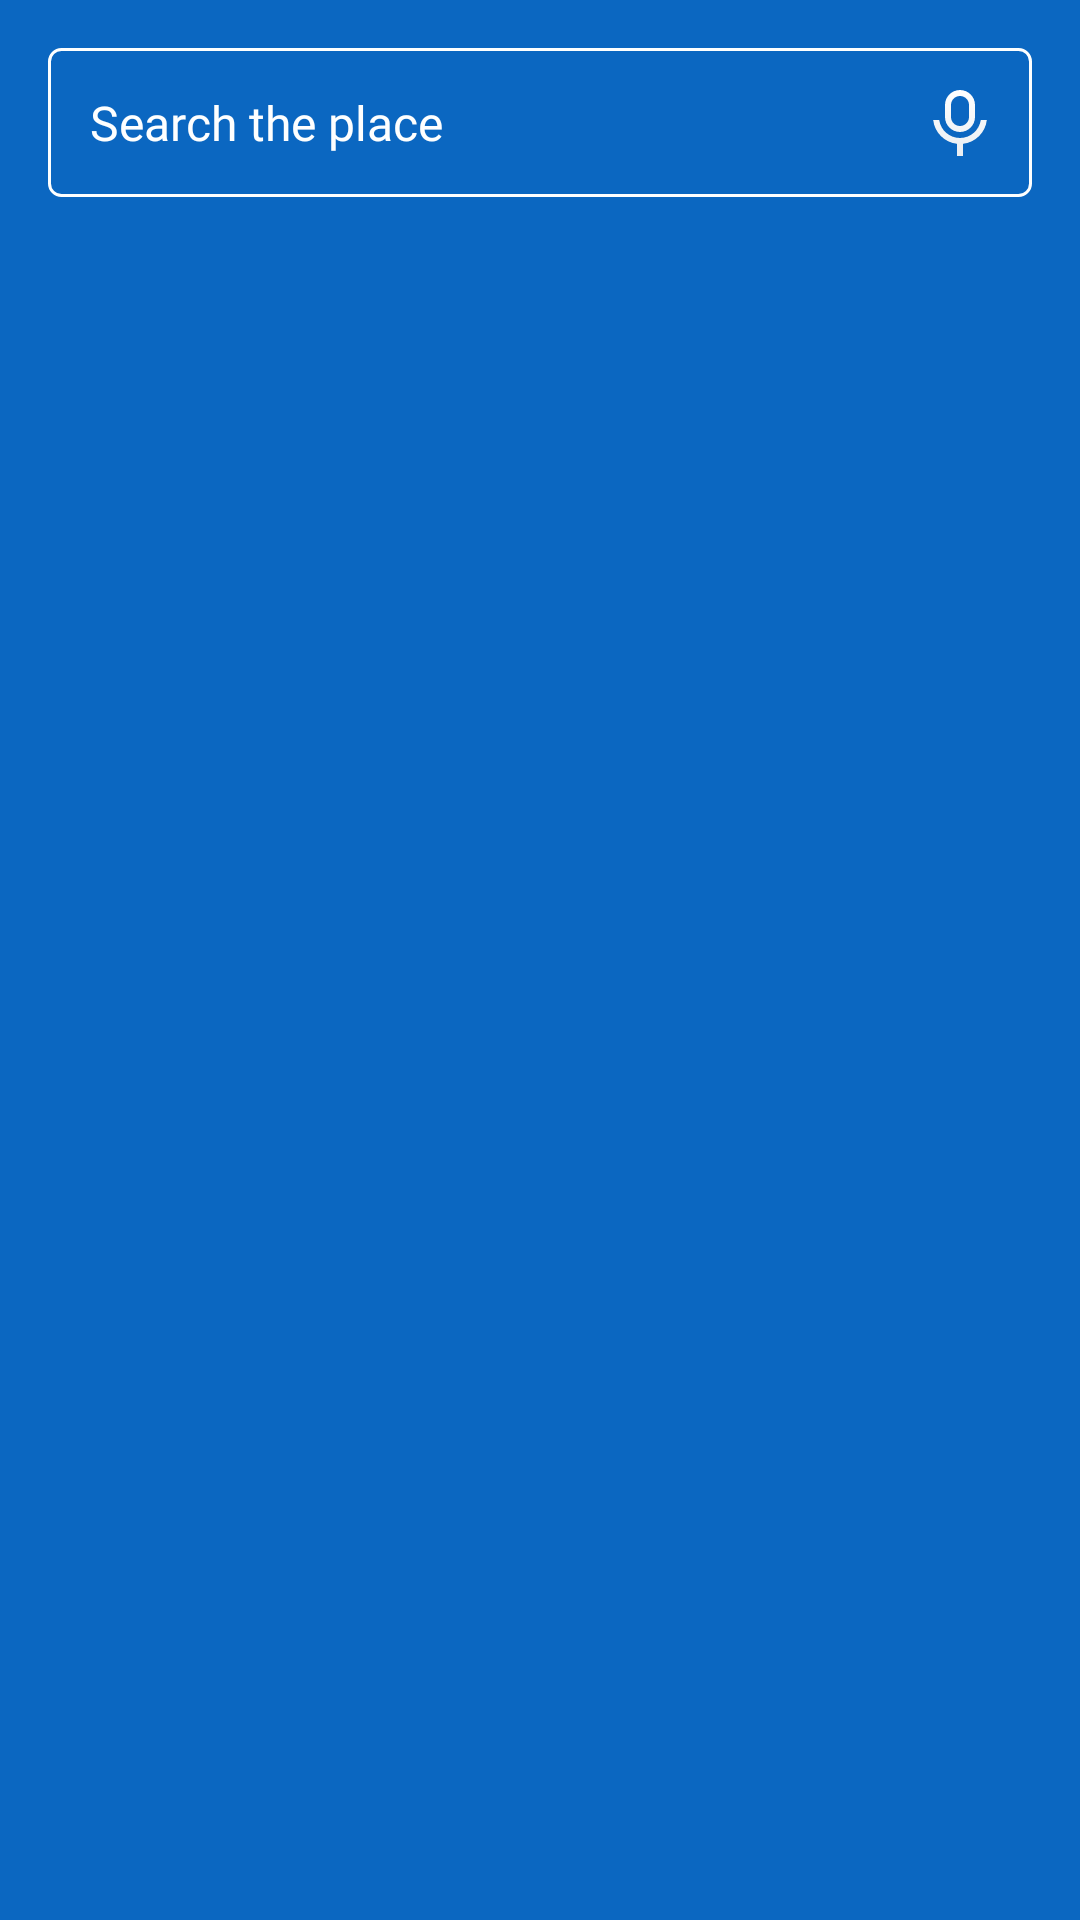

Point at icon controls on the screen. Image size 1080×1920, points as [x,y].
mic edit text: [960,123]
